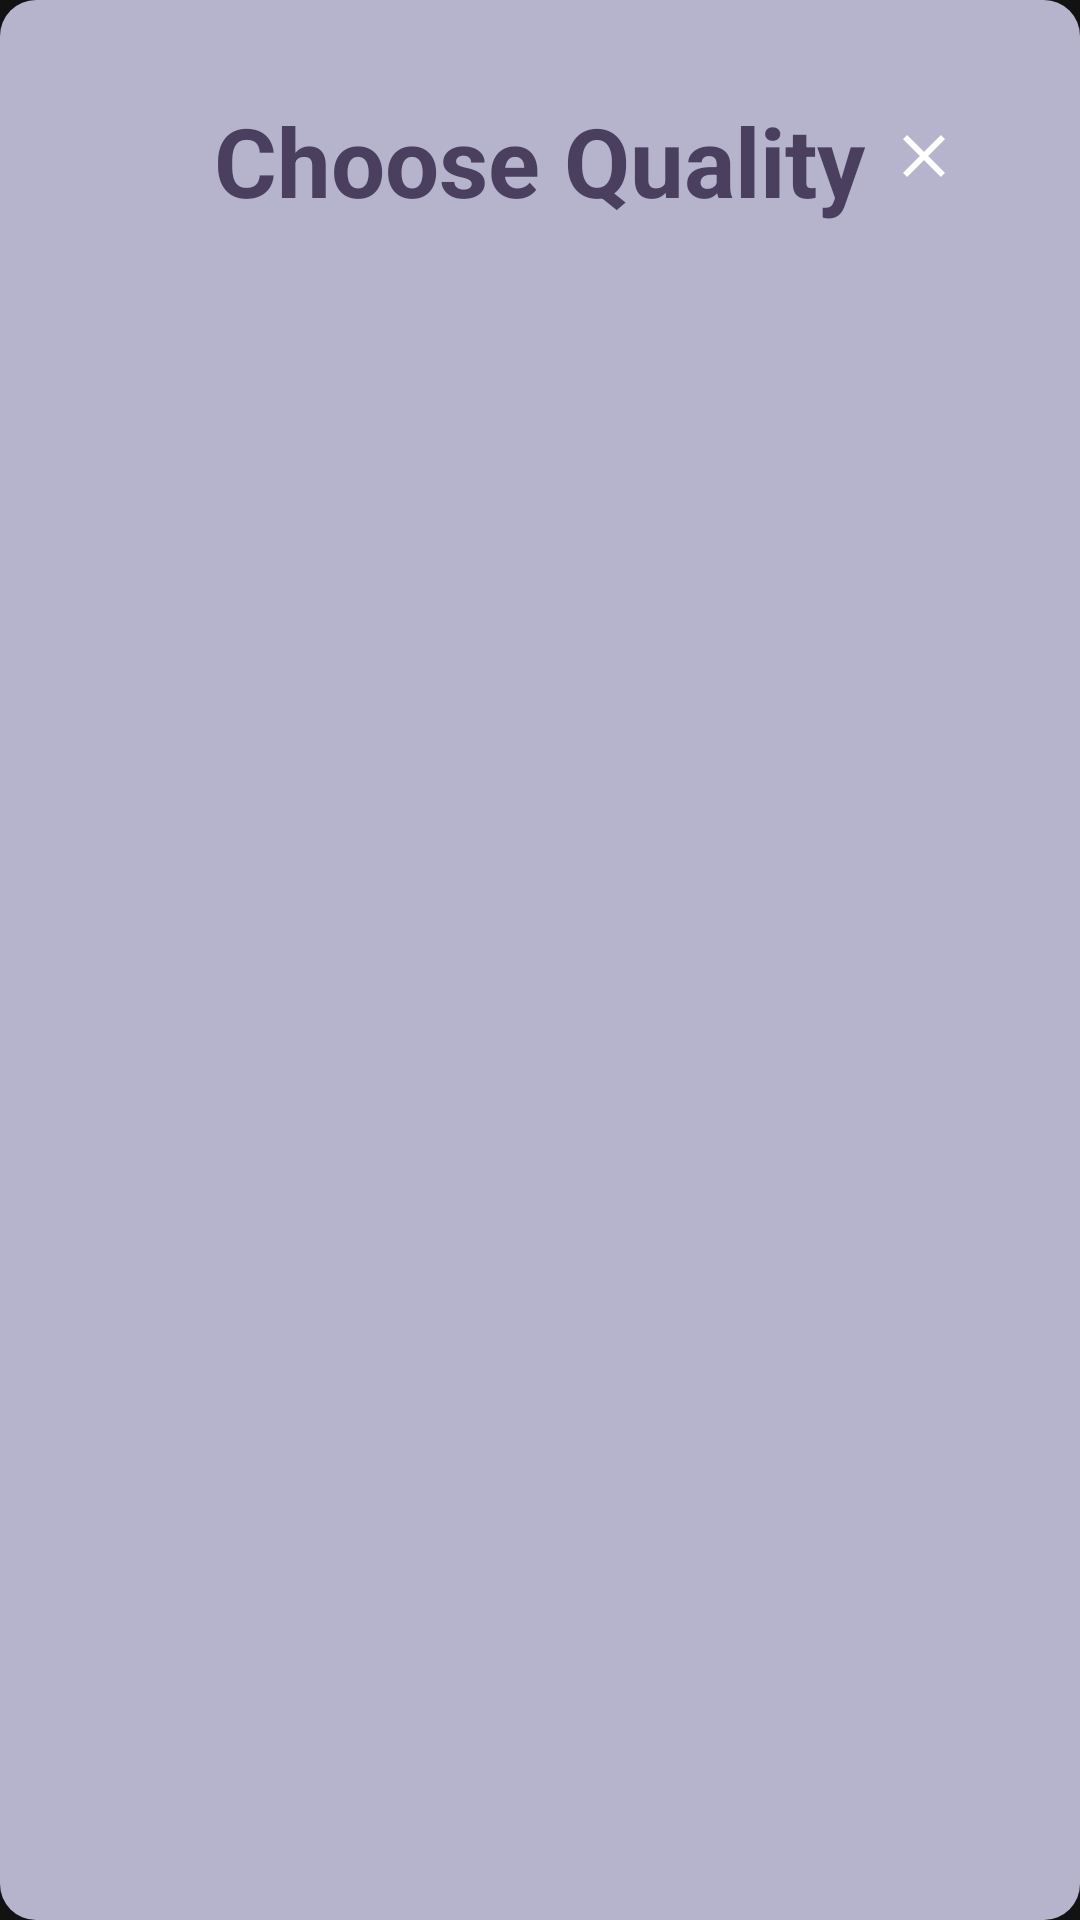

Icons on this 1080 × 1920 Android screen, each with its box as Rect(x1, y1, x2, y2):
close: Rect(903, 135, 945, 177)
